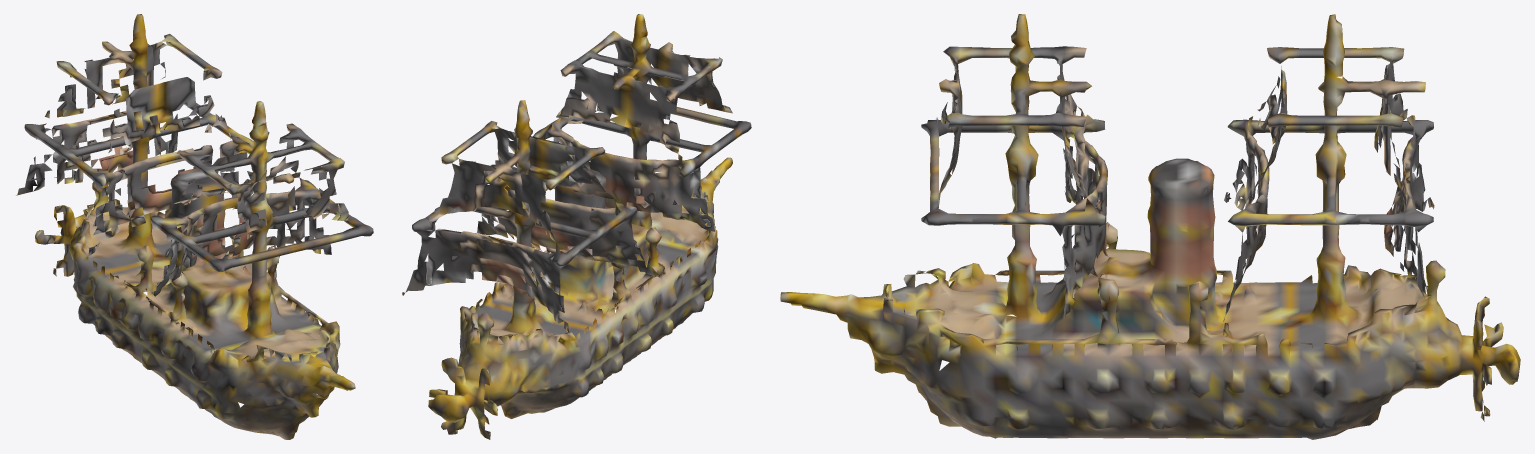
Rendered from mon3d_lo.glb.
3 renders of one model, left to right at view 1: azimuth 30°, elevation 25°; view 2: azimuth 150°, elevation 25°; view 3: azimuth 270°, elevation 25°, orthographic. The views are drawn at different scales.
Bounding box in the file's own units: 0.7432 × 1.2 × 1.95.
